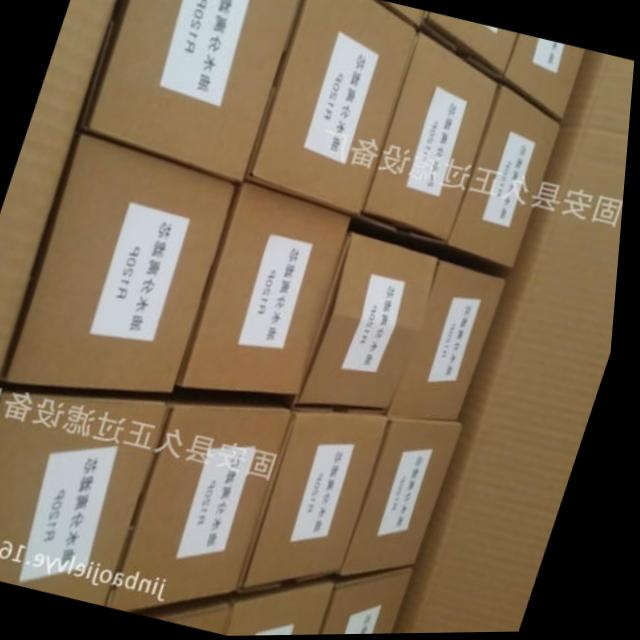box: (4, 134, 240, 393), (79, 0, 301, 184), (115, 393, 299, 612), (178, 181, 355, 395), (0, 392, 176, 607), (247, 0, 419, 218), (351, 33, 499, 250), (247, 407, 396, 597), (299, 231, 444, 412), (431, 85, 564, 272), (346, 419, 469, 581), (393, 263, 511, 423), (499, 35, 587, 122), (417, 12, 519, 82), (234, 576, 345, 637), (330, 570, 425, 636), (137, 595, 240, 635)
